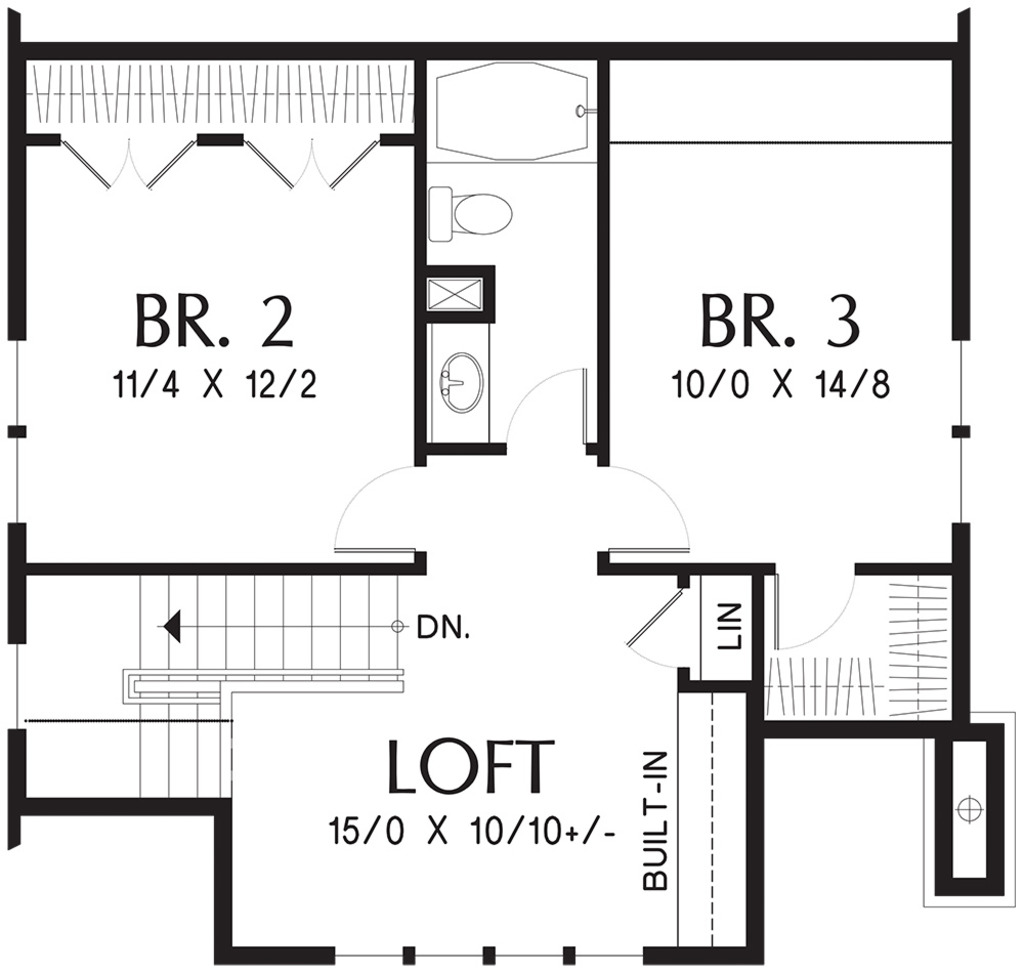door: (595, 463, 695, 559), (330, 466, 428, 561), (56, 133, 200, 195), (503, 365, 595, 461), (242, 128, 380, 190), (767, 560, 856, 654), (619, 581, 690, 672)
large_sink: (418, 179, 515, 256)
small_sink: (426, 322, 495, 446)
stairs: (10, 563, 403, 813)
tub: (426, 61, 598, 175)
window: (328, 938, 655, 964), (6, 328, 31, 529), (947, 333, 972, 524), (7, 641, 34, 733)
